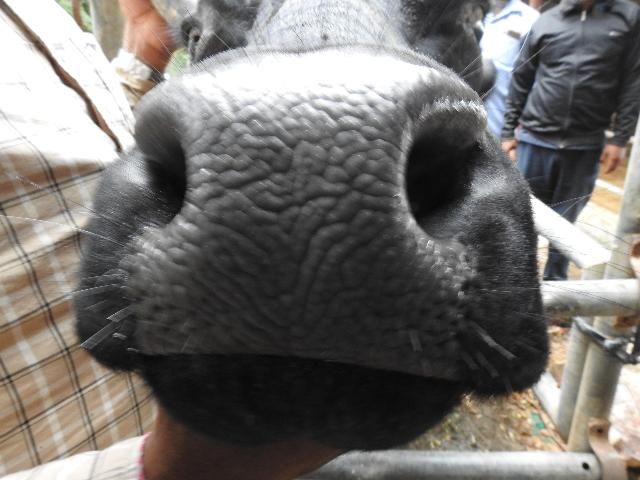Muzzle: (180, 82, 400, 336)
